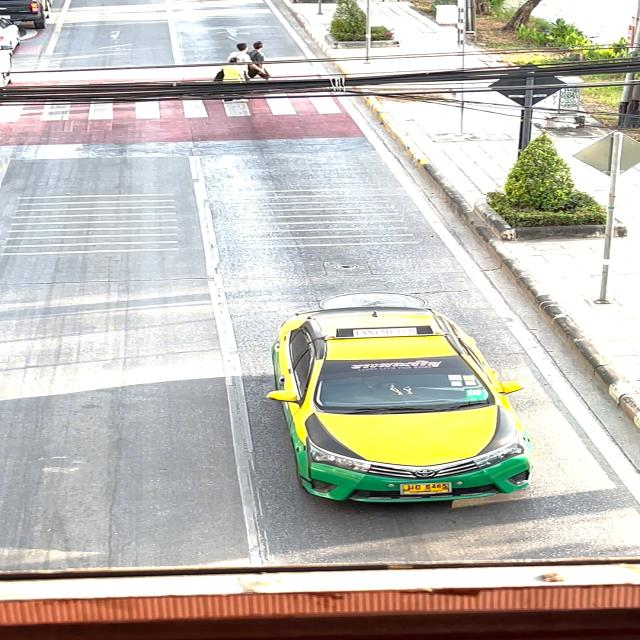car: (246, 285, 561, 513)
